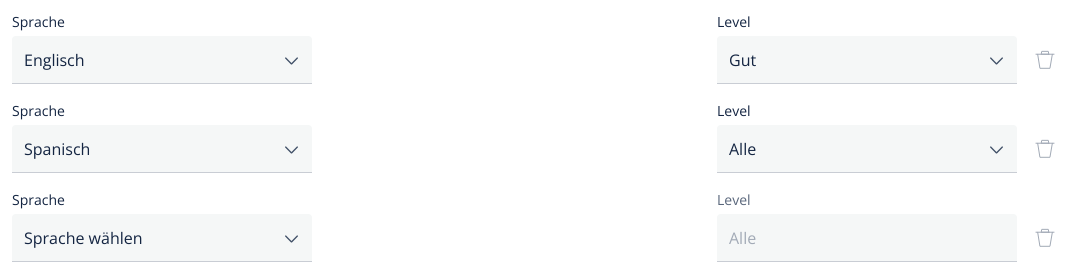
Applicant Filter - Language › should be able to deselect a language
Check: the button "Gut" is shown, box 717,36 -> 1017,84
Check: the button "Gut" is enabled, box 717,36 -> 1017,84
// select different language
Step 1. Click the button "Englisch" → (54, 60), box 12,36 -> 312,84
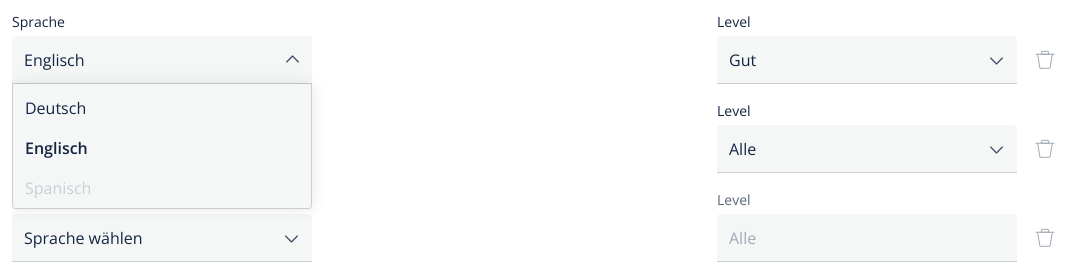
Step 2. Click the list item "Deutsch" → (56, 108), box 25,97 -> 86,119
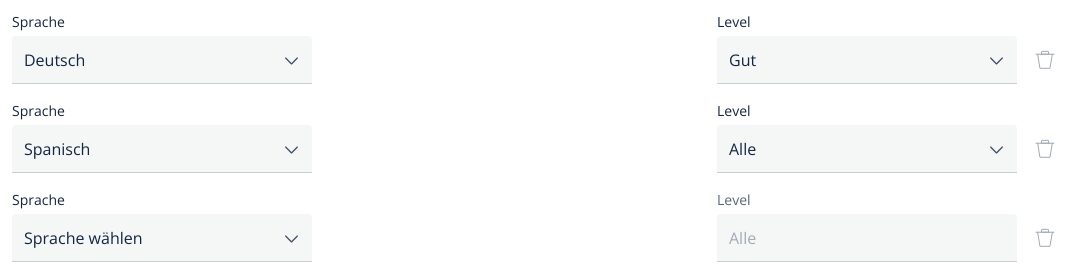
Check: the button "Gut" is shown, box 717,36 -> 1017,84
Check: the button "Deutsch" is shown
// Deselect language
Step 3. Click the button "Deutsch" → (55, 60), box 12,36 -> 312,84
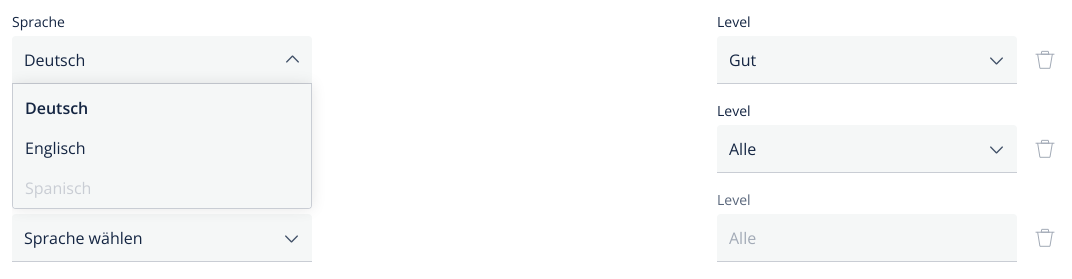
Step 4. Click the list item "Deutsch" → (57, 108), box 25,97 -> 88,119
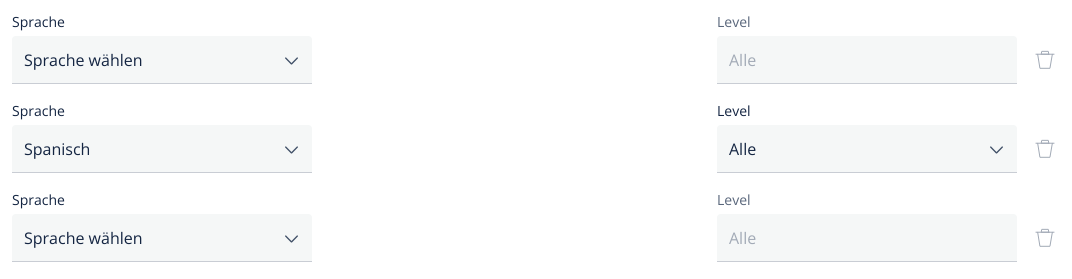
Check: the 1st button "Sprache wählen" is shown, box 12,36 -> 312,84
Check: the 1st button "Alle" is shown, box 717,36 -> 1017,84
Check: the 1st button "Alle" is disabled, box 717,36 -> 1017,84
